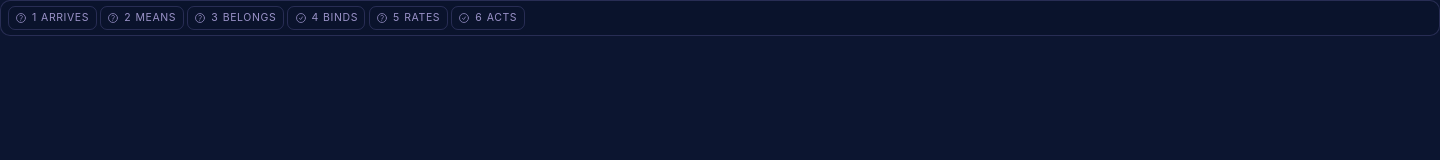
Test: scope — the same strip, inside one building › says the summary carries no such building rather than printing a zero
Check: the text "ARRIVES" is shown, box [41,10,89,26]
What coordinates should you click on to do the following:
click the button "1 ARRIVES"
I would click on:
 (52, 18)
Its box is [8,6,97,30].
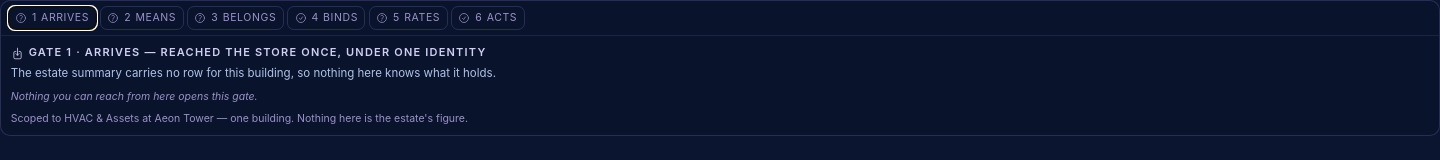
Check: the text "carries no row for this building" is shown, box [11,66,496,80]
